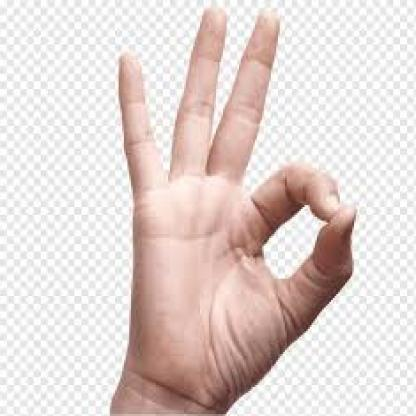ok: (116, 4, 358, 408)
